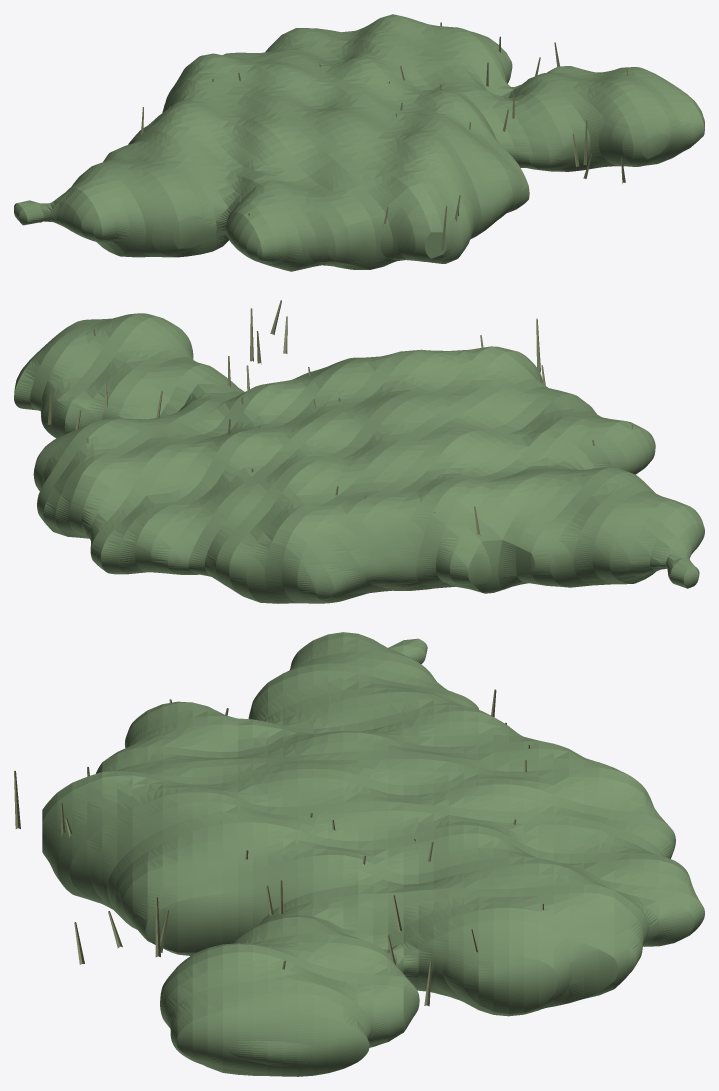
Rendered from taiga_moss.glb.
The picture shows the model from 3 angles, top to bottom: view 1: azimuth 30°, elevation 25°; view 2: azimuth 150°, elevation 25°; view 3: azimuth 270°, elevation 25°; orthographic projection. The views are drawn at different scales.
Parts seen in each view (by area): view 1: taiga_moss; view 2: taiga_moss; view 3: taiga_moss.
Part boxes in pixels (left/top/right/bottom): taiga_moss: left=14, top=14, right=704, bottom=271; taiga_moss: left=14, top=300, right=704, bottom=603; taiga_moss: left=14, top=632, right=704, bottom=1076.
Bounding box in the file's own units: 2.84 × 0.3626 × 2.04.
